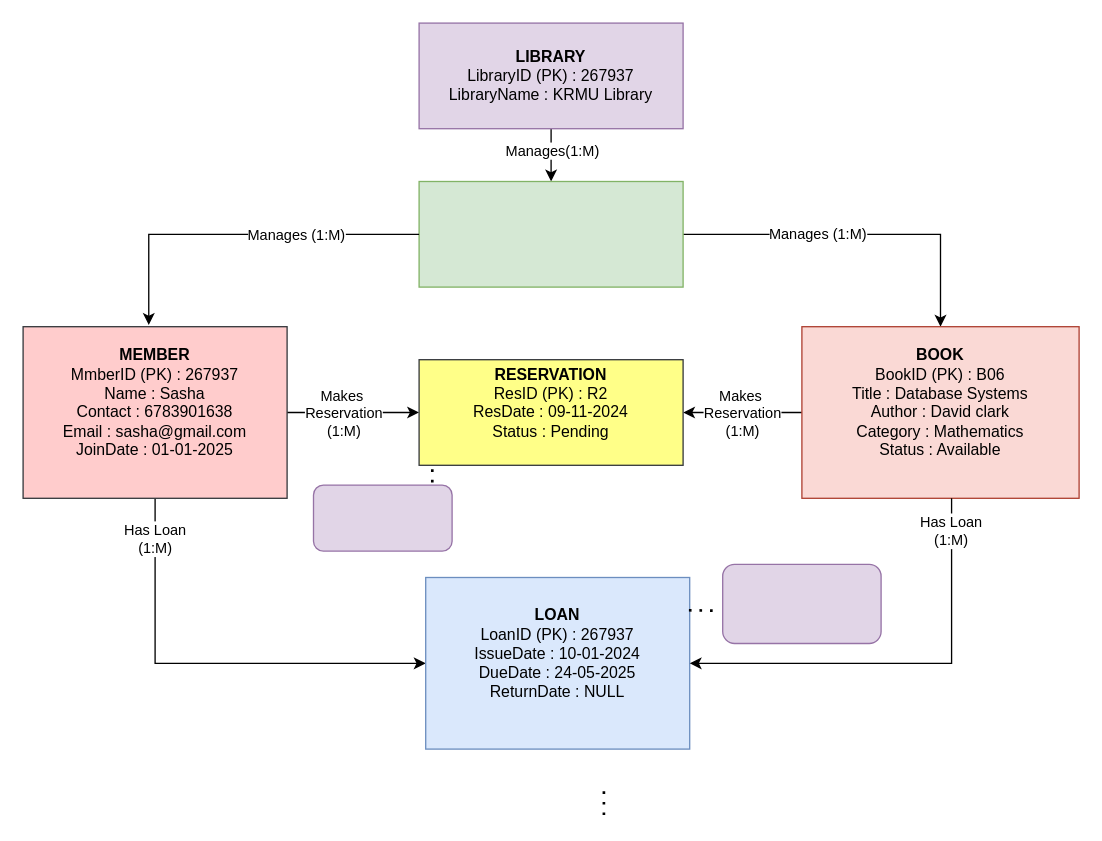
Image size: 1102x841. Some labels were removed from this diagram. The centre of each missing label's shape, as x and y in pixels:
LOAN connects MEMBER and BOOK to record issue/return transactions.: pixel 801 603
RESERVATION resolves the many-to-many relationship between MEMBER and BOOK .: pixel 382 517
STAFF StaffID (PK) : S08 Name : Rahul Role : Librarian Contact : 7658926682: pixel 550 233
